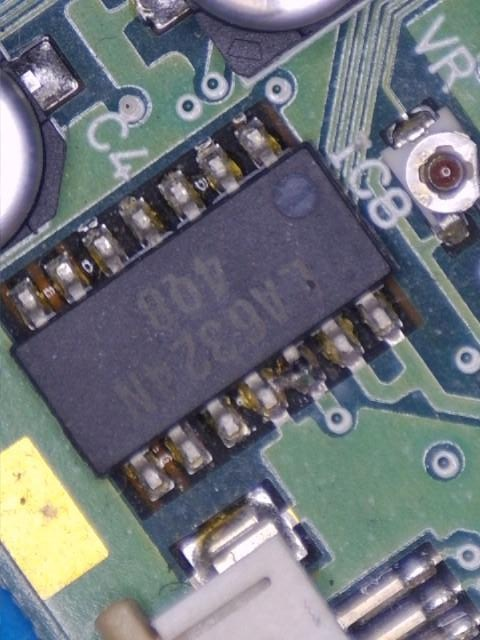pcb_defect: (243, 344, 327, 408)
